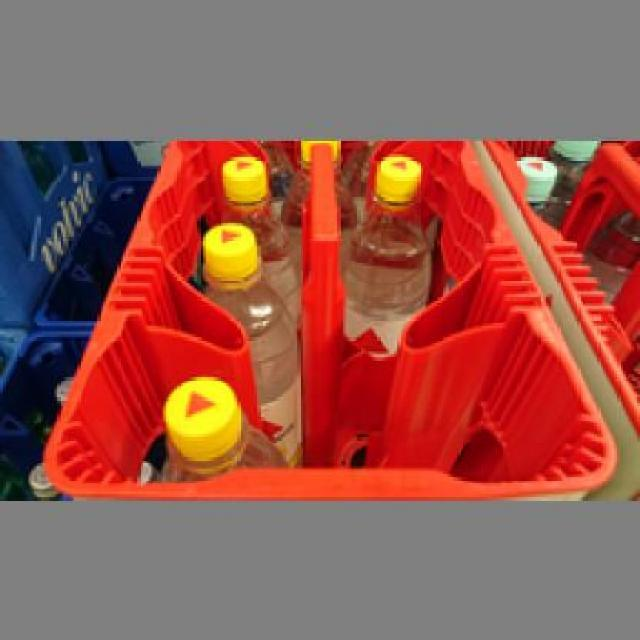Water: (194, 219, 294, 452), (136, 368, 290, 483), (337, 150, 426, 347)
